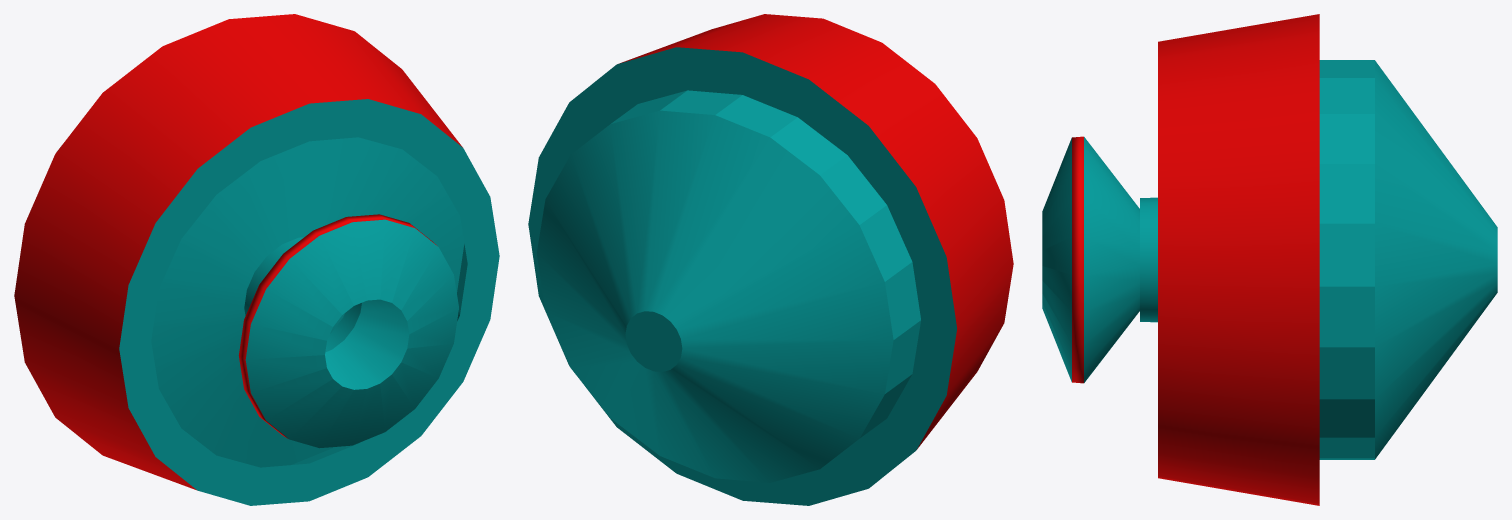
File: S2_Bottom.fbx
The picture shows the model from 3 angles, left to right: view 1: azimuth 30°, elevation 25°; view 2: azimuth 150°, elevation 25°; view 3: azimuth 270°, elevation 25°; orthographic projection.
Parts seen in each view (by area): view 1: pCylinder12; view 2: pCylinder12; view 3: pCylinder12.
Boxes of the visible parts, left/top/right/bottom form: pCylinder12: left=14, top=14, right=499, bottom=505; pCylinder12: left=528, top=14, right=1013, bottom=505; pCylinder12: left=1042, top=14, right=1497, bottom=505.
Bounding box in the file's own units: 18.69 × 18.68 × 17.16.
